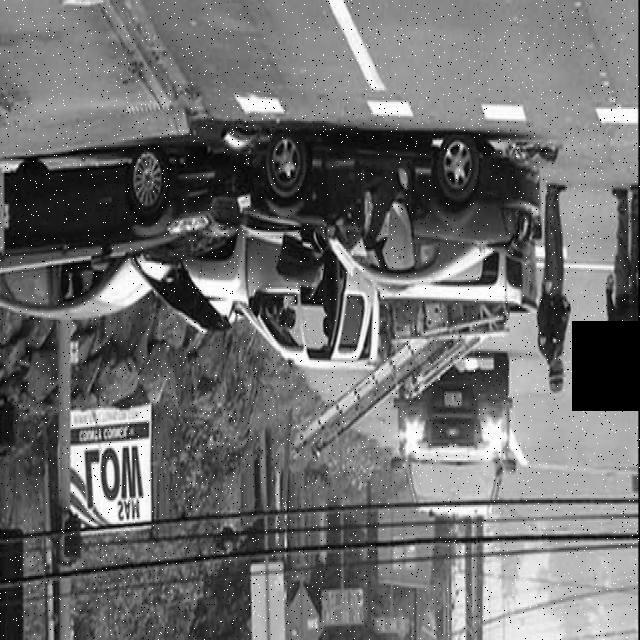moderate: (0, 128, 542, 348)
